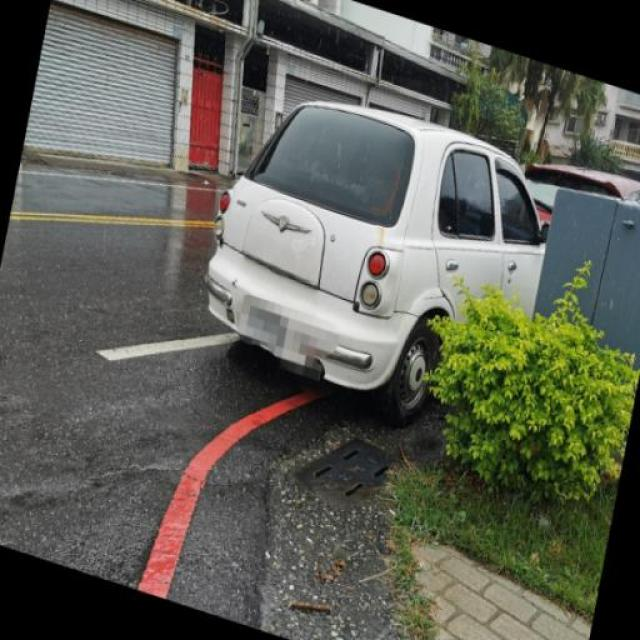illegalparking: (205, 80, 567, 428)
